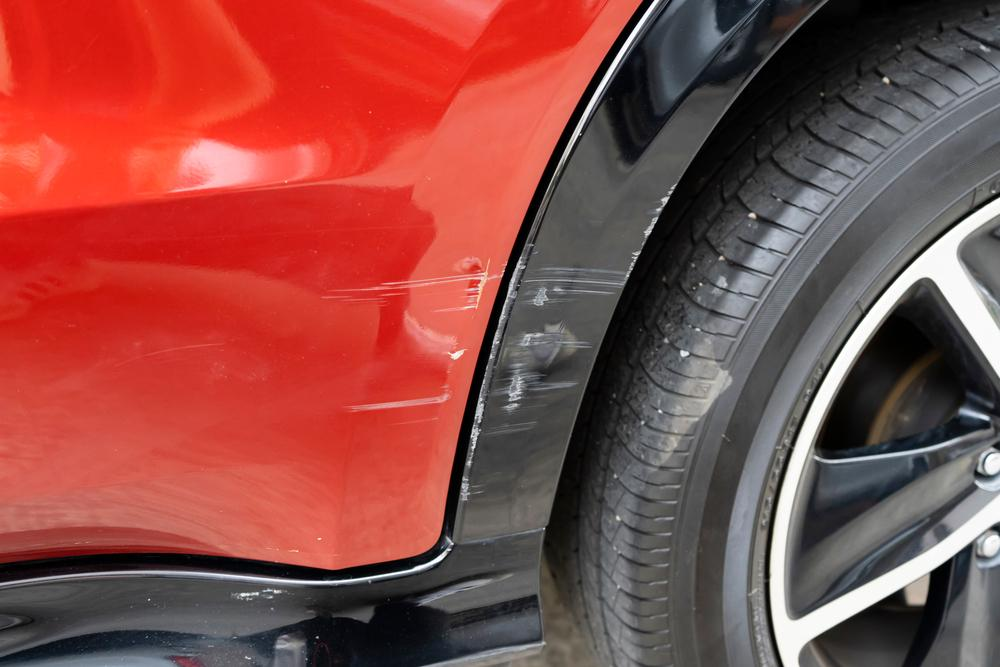scratch: (452, 252, 629, 503), (317, 255, 491, 420)
